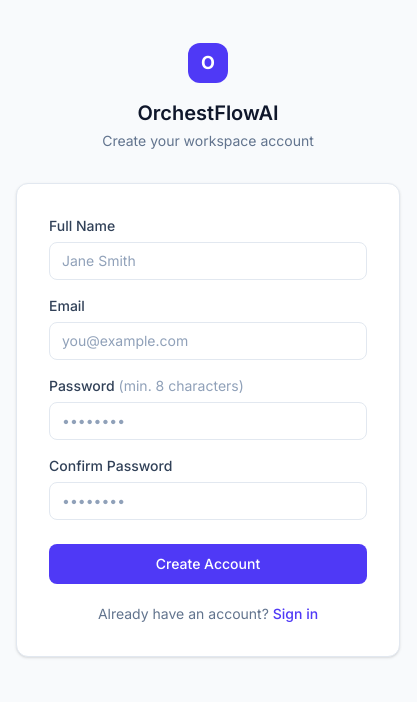
SignupPage › shows error and does not submit when password < 8 chars
The width and height of the screenshot is (417, 702).
Type "Jane" into the field labelled "Full Name" at (208,261), box top-left (49, 242), bottom-right (367, 280)
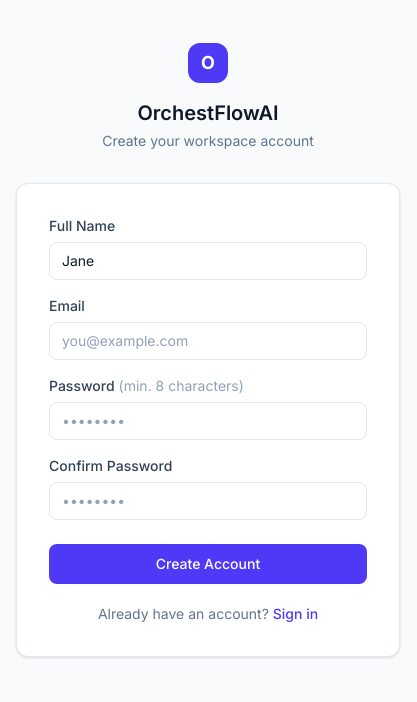
Type "jane@example.com" into the field labelled "Email" at (208,341), box top-left (49, 322), bottom-right (367, 360)
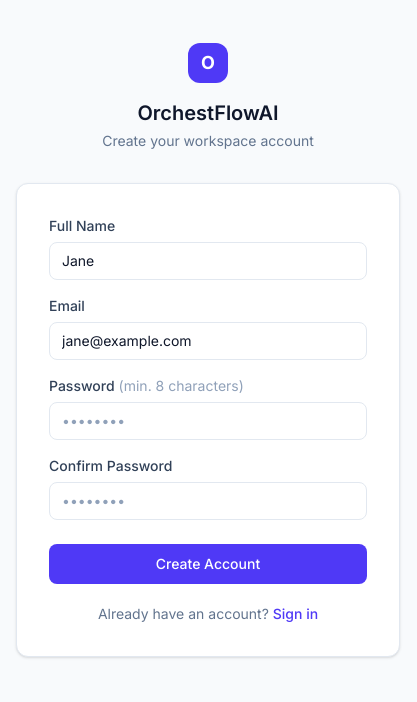
Type "short" into the password field labelled "Password(min. 8 characters)" at (208,421), box top-left (49, 402), bottom-right (367, 440)
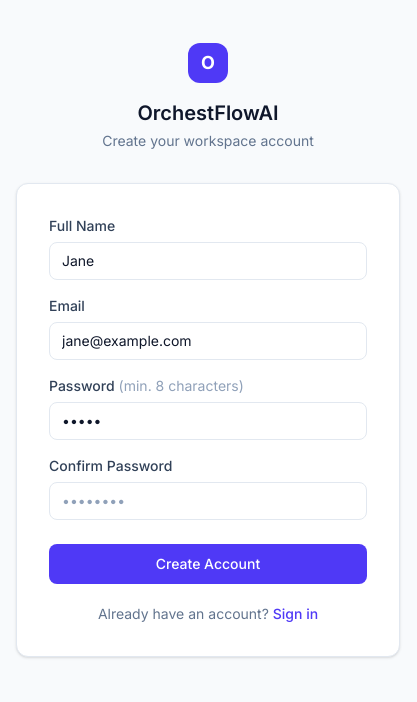
Type "short" into the password field labelled "Confirm Password" at (208,501), box top-left (49, 482), bottom-right (367, 520)
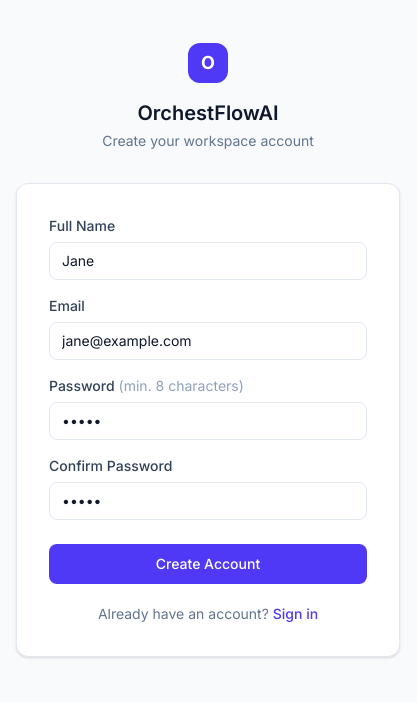
Click the button "Create Account" at (208,564), box top-left (49, 544), bottom-right (367, 584)
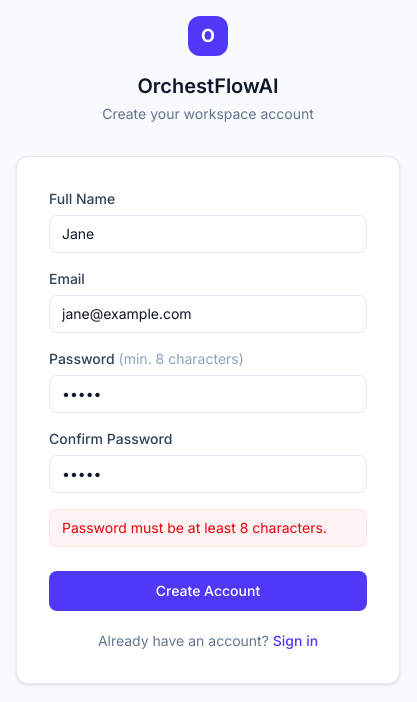
Expected: the text "Password must be at least 8 characters." is shown, top-left (49, 509), bottom-right (367, 547)
